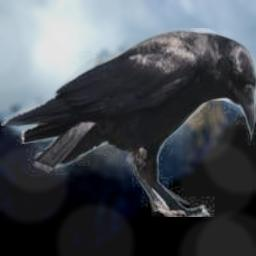Crow: (1, 28, 256, 217)
